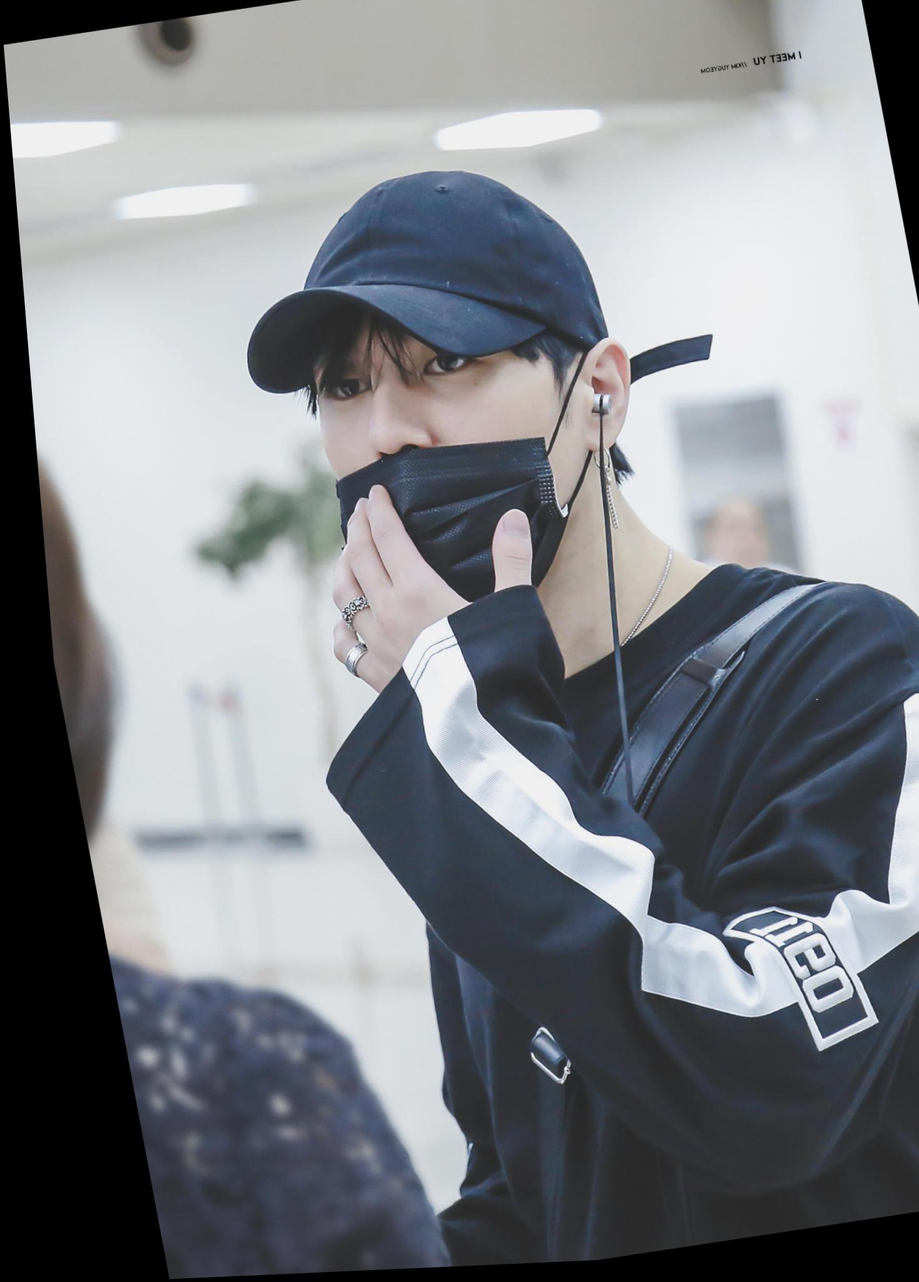WRONG: (283, 270, 604, 636)
